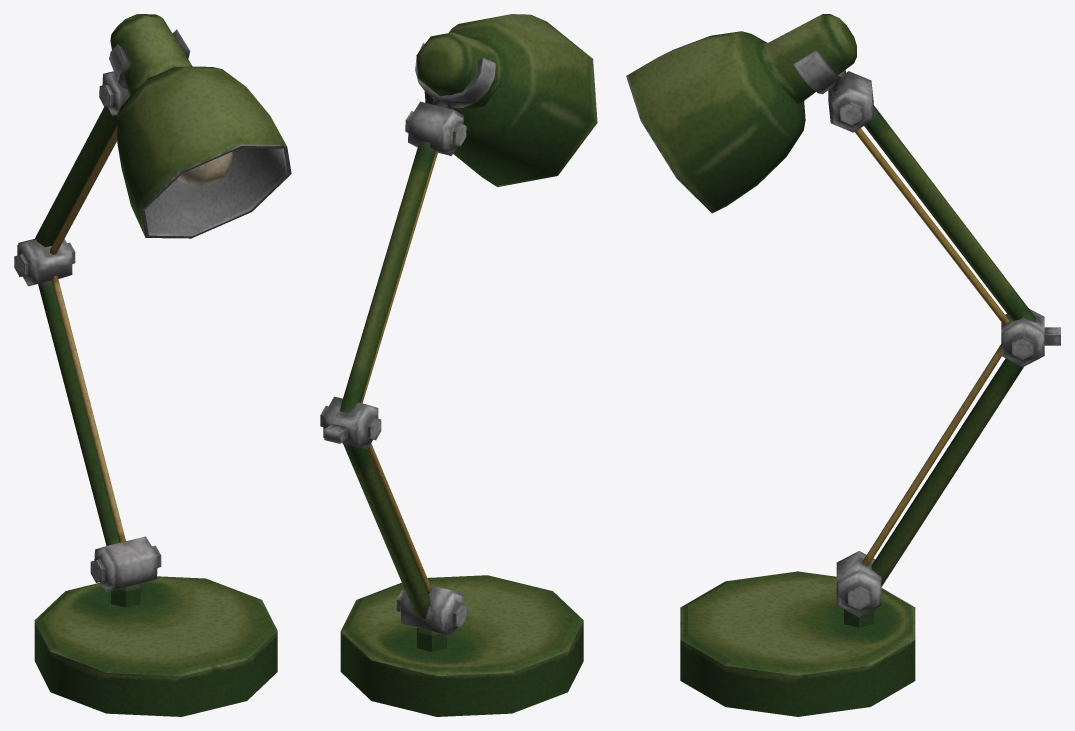
Rendered from tischlampe.fbx.
3 views of the same model, side by side, from view 1: azimuth 30°, elevation 25°; view 2: azimuth 150°, elevation 25°; view 3: azimuth 270°, elevation 25° (orthographic).
Visible parts, largest first — view 1: tischlampe; view 2: tischlampe; view 3: tischlampe.
Part boxes in pixels (x1,y1,x2,y2): tischlampe: (14,14,291,716); tischlampe: (320,14,597,716); tischlampe: (626,14,1060,716).
Size of the model in its own units: 22.52 by 65.22 by 39.64.
